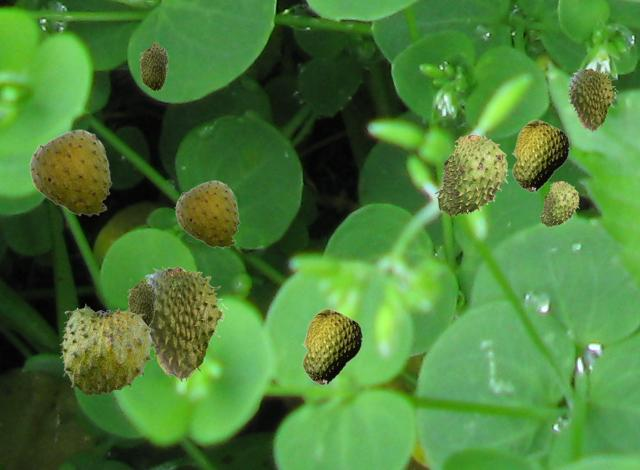guyabano: (144, 266, 227, 381), (59, 303, 155, 395), (28, 129, 111, 216), (434, 134, 507, 216), (301, 308, 362, 385), (174, 180, 239, 248), (511, 119, 569, 192), (566, 68, 617, 131), (539, 181, 578, 226), (139, 41, 168, 90), (127, 278, 156, 326)
